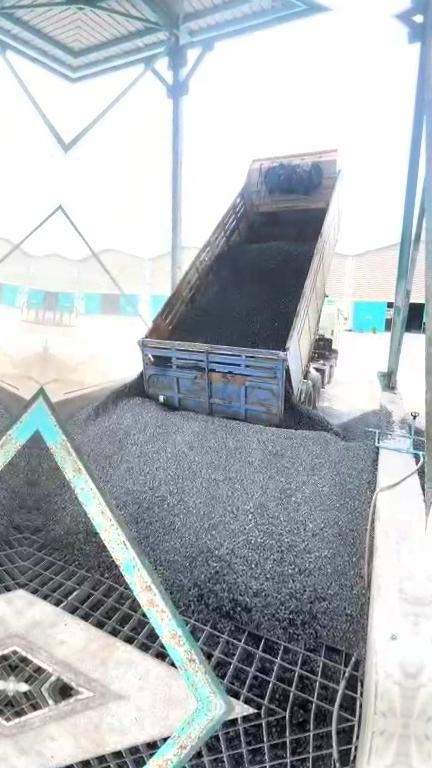gravel: (67, 382, 392, 650), (175, 240, 313, 349), (29, 436, 121, 580), (318, 390, 350, 425), (414, 418, 425, 464)
sand: (42, 350, 92, 402)
